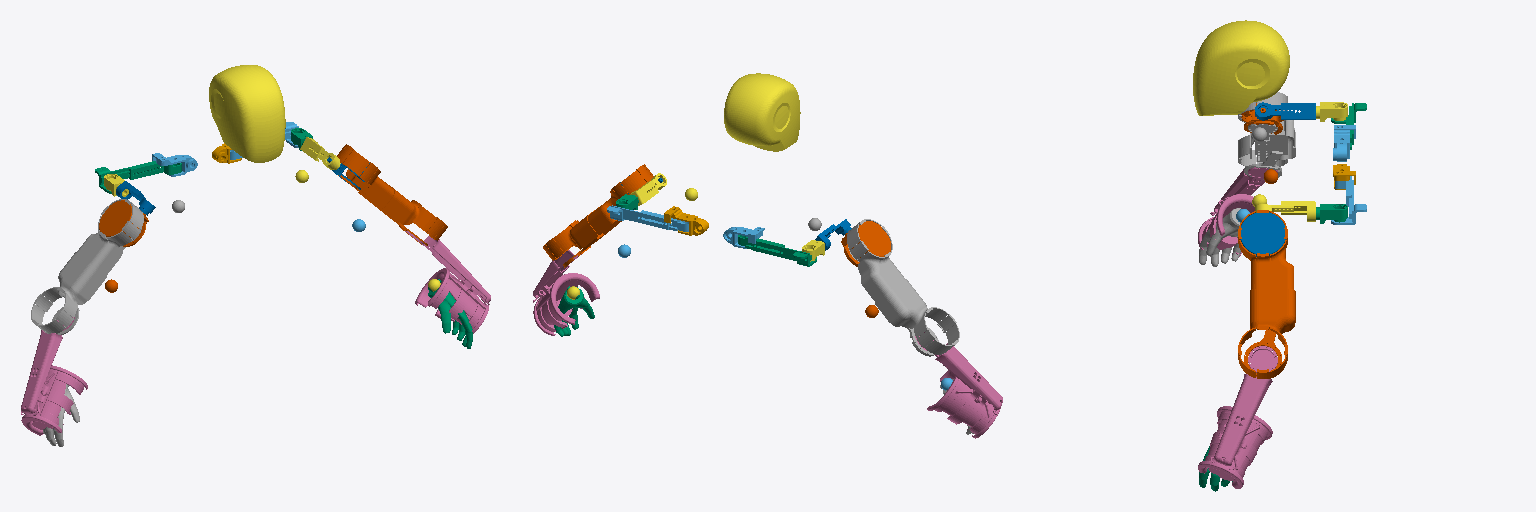
--- Facts derived from the render (not from the file) ---
Views: 3 orthographic renders of the robot side by side, from view 1: azimuth 30°, elevation 25°; view 2: azimuth 150°, elevation 25°; view 3: azimuth 270°, elevation 25°.
Model exohaptic with 36 links and 35 joints (35 revolute), rooted at back_plate, posed all joints at 0.
Links seen in each view (by area): view 1: head, right_link5, right_link6, left_link5, left_link6, right_link4, right_link1, hand_left, left_link3, hand_right, right_link0; view 2: right_link5, head, right_link6, left_link5, left_link6, right_link4, left_link1, right_link1, hand_left, left_link0; view 3: head, left_link6, left_link5, right_link5, right_link6, left_link4, hand_right, right_link3, left_link3, right_link0, left_link1, right_link2 (+1 smaller).
Boxes of the visible links, <box> form: head: <box>209,65,285,162</box>; right_link5: <box>31,199,143,334</box>; right_link6: <box>21,317,87,435</box>; left_link5: <box>337,144,447,245</box>; left_link6: <box>405,231,490,333</box>; right_link4: <box>99,200,148,246</box>; right_link1: <box>95,161,181,193</box>; hand_left: <box>428,279,472,348</box>; left_link3: <box>300,137,340,169</box>; hand_right: <box>43,384,79,446</box>; right_link0: <box>152,153,197,176</box>; right_link5: <box>847,219,959,356</box>; head: <box>724,73,800,151</box>; right_link6: <box>915,332,1002,438</box>; left_link5: <box>543,164,653,267</box>; left_link6: <box>533,250,599,335</box>; right_link4: <box>841,221,890,266</box>; left_link1: <box>607,205,688,231</box>; right_link1: <box>738,235,816,266</box>; hand_left: <box>554,286,594,336</box>; left_link0: <box>664,206,708,235</box>; head: <box>1193,20,1289,115</box>; left_link6: <box>1198,346,1277,488</box>; left_link5: <box>1238,210,1295,378</box>; right_link5: <box>1238,92,1295,179</box>; right_link6: <box>1198,167,1277,256</box>; left_link4: <box>1240,212,1285,256</box>; hand_right: <box>1199,208,1240,266</box>; right_link3: <box>1255,102,1315,120</box>; left_link3: <box>1255,201,1315,221</box>; right_link0: <box>1333,125,1355,161</box>; left_link1: <box>1331,176,1366,224</box>; right_link2: <box>1316,102,1347,121</box>.
Size in the robot's own frame: 1.38 by 0.4018 by 0.8981 metres.
31 mesh visuals loaded from 36 distinct referenced files (31 binary STL); not drawn: 5 (reference not matched to a file when rendering).

URDF robot description (exohaptic):
<robot name="exohaptic">
  <joint name="right_joint0" type="revolute">
    <parent link="back_plate" />
    <child link="right_link0" />
    <origin rpy="0  0  0" xyz="-0.0399   0.21501  0.08476" />
    <axis xyz="0  1  0" />
    <limit effort="0.0" lower="-1.57079632679" upper="0.0" velocity="0.0" />
  </joint>
  <joint name="left_joint0" type="revolute">
    <parent link="back_plate" />
    <child link="left_link0" />
    <origin rpy="0  0  0" xyz="0.0501   0.21501  0.08476" />
    <axis xyz="0  1  0" />
    <limit effort="0.0" lower="-3.14159265359" upper="3.14159265359" velocity="0.0" />
  </joint>
  <joint name="right_joint1" type="revolute">
    <parent link="right_link0" />
    <child link="right_link1" />
    <origin rpy="0  0  0" xyz="-0.04     0.01975 -0.0162" />
    <axis xyz="0  0 -1" />
    <limit effort="0.0" lower="-1.57079632679" upper="0.0" velocity="0.0" />
  </joint>
  <joint name="right_joint2" type="revolute">
    <parent link="right_link1" />
    <child link="right_link2" />
    <origin rpy="0  0  0" xyz="-0.1913 -0.005  -0.0004" />
    <axis xyz="0  0  1" />
    <limit effort="0.0" lower="-3.14159265359" upper="3.14159265359" velocity="0.0" />
  </joint>
  <joint name="right_joint3" type="revolute">
    <parent link="right_link2" />
    <child link="right_link3" />
    <origin rpy="0  0  0" xyz="0      -0.054    0.01575" />
    <axis xyz="0  1  0" />
    <limit effort="0.0" lower="-3.14159265359" upper="3.14159265359" velocity="0.0" />
  </joint>
  <joint name="right_joint4" type="revolute">
    <parent link="right_link3" />
    <child link="right_link4" />
    <origin rpy="0  0  0" xyz="-0.00979 -0.123   -0.00979" />
    <axis xyz="0.7071  0      0.7071" />
    <limit effort="0.0" lower="-3.14159265359" upper="3.14159265359" velocity="0.0" />
  </joint>
  <joint name="right_joint5" type="revolute">
    <parent link="right_link4" />
    <child link="right_link5" />
    <origin rpy="0  0  0" xyz="-0.03111  0      -0.04808" />
    <axis xyz="0.7071  0     -0.7071" />
    <limit effort="0.0" lower="-3.14159265359" upper="3.14159265359" velocity="0.0" />
  </joint>
  <joint name="right_joint6" type="revolute">
    <parent link="right_link5" />
    <child link="right_link6" />
    <origin rpy="0  0  0" xyz="-0.20046  0      -0.20117" />
    <axis xyz="0.7071  0     -0.7071" />
    <limit effort="0.0" lower="-3.14159265359" upper="3.14159265359" velocity="0.0" />
  </joint>
  <joint name="left_joint1" type="revolute">
    <parent link="left_link0" />
    <child link="left_link1" />
    <origin rpy="0  0  0" xyz="0.04     0.01975 -0.0162" />
    <axis xyz="0  0  1" />
    <limit effort="0.0" lower="-3.14159265359" upper="3.14159265359" velocity="0.0" />
  </joint>
  <joint name="left_joint2" type="revolute">
    <parent link="left_link1" />
    <child link="left_link2" />
    <origin rpy="0  0  0" xyz="0.1913 -0.005  -0.0004" />
    <axis xyz="0  0 -1" />
    <limit effort="0.0" lower="-3.14159265359" upper="3.14159265359" velocity="0.0" />
  </joint>
  <joint name="left_joint3" type="revolute">
    <parent link="left_link2" />
    <child link="left_link3" />
    <origin rpy="0  0  0" xyz="0      -0.054    0.01575" />
    <axis xyz="0 -1  0" />
    <limit effort="0.0" lower="-3.14159265359" upper="3.14159265359" velocity="0.0" />
  </joint>
  <joint name="left_joint4" type="revolute">
    <parent link="left_link3" />
    <child link="left_link4" />
    <origin rpy="0  0  0" xyz="0.00979 -0.123   -0.00979" />
    <axis xyz="0.7071  0     -0.7071" />
    <limit effort="0.0" lower="-3.14159265359" upper="3.14159265359" velocity="0.0" />
  </joint>
  <joint name="left_joint5" type="revolute">
    <parent link="left_link4" />
    <child link="left_link5" />
    <origin rpy="0  0  0" xyz="0.03394  0      -0.04525" />
    <axis xyz="-0.7071  0     -0.7071" />
    <limit effort="0.0" lower="-3.14159265359" upper="3.14159265359" velocity="0.0" />
  </joint>
  <joint name="left_joint6" type="revolute">
    <parent link="left_link5" />
    <child link="left_link6" />
    <origin rpy="0  0  0" xyz="0.19763  0      -0.204" />
    <axis xyz="0.7071  0      0.7071" />
    <limit effort="0.0" lower="-3.14159265359" upper="3.14159265359" velocity="0.0" />
  </joint>
  <joint name="shoulder_right_axis0" type="revolute">
    <parent link="back_plate" />
    <child link="shoulder_right_link1" />
    <origin rpy="0  0  0" xyz="-0.17967  0.04491  0.06978" />
    <axis xyz="0  0  1" />
    <limit effort="0.0" lower="-3.14159265359" upper="3.14159265359" velocity="0.0" />
  </joint>
  <joint name="shoulder_right_axis2" type="revolute">
    <parent link="shoulder_right_link2" />
    <child link="upper_arm_right" />
    <origin rpy="0  0  0" xyz="0  0  0" />
    <axis xyz="0.81915  0      -0.57357" />
    <limit effort="0.0" lower="-3.14159265359" upper="3.14159265359" velocity="0.0" />
  </joint>
  <joint name="shoulder_right_axis1" type="revolute">
    <parent link="shoulder_right_link1" />
    <child link="shoulder_right_link2" />
    <origin rpy="0  0  0" xyz="0  0  0" />
    <axis xyz="0  1  0" />
    <limit effort="0.0" lower="-3.14159265359" upper="3.14159265359" velocity="0.0" />
  </joint>
  <joint name="elbow_right_axis0" type="revolute">
    <parent link="upper_arm_right" />
    <child link="elbow_right_link1" />
    <origin rpy="0  0  0" xyz="-0.18361  0.026   -0.19249" />
    <axis xyz="0.57357  0       0.81915" />
    <limit effort="0.0" lower="-3.14159265359" upper="3.14159265359" velocity="0.0" />
  </joint>
  <joint name="elbow_right_axis2" type="revolute">
    <parent link="elbow_right_link2" />
    <child link="lower_arm_right" />
    <origin rpy="0  0  0" xyz="0  0  0" />
    <axis xyz="0.81915  0      -0.57357" />
    <limit effort="0.0" lower="-3.14159265359" upper="3.14159265359" velocity="0.0" />
  </joint>
  <joint name="elbow_right_axis1" type="revolute">
    <parent link="elbow_right_link1" />
    <child link="elbow_right_link2" />
    <origin rpy="0  0  0" xyz="0  0  0" />
    <axis xyz="0  1  0" />
    <limit effort="0.0" lower="-3.14159265359" upper="3.14159265359" velocity="0.0" />
  </joint>
  <joint name="wrist_right_axis0" type="revolute">
    <parent link="lower_arm_right" />
    <child link="wrist_right_link1" />
    <origin rpy="0  0  0" xyz="-0.18696 -0.06327 -0.18768" />
    <axis xyz="0.56486  0.17364  0.8067" />
    <limit effort="0.0" lower="-3.14159265359" upper="3.14159265359" velocity="0.0" />
  </joint>
  <joint name="wrist_right_axis2" type="revolute">
    <parent link="wrist_right_link2" />
    <child link="hand_right" />
    <origin rpy="0  0  0" xyz="0  0  0" />
    <axis xyz="0.81915  0      -0.57357" />
    <limit effort="0.0" lower="-3.14159265359" upper="3.14159265359" velocity="0.0" />
  </joint>
  <joint name="wrist_right_axis1" type="revolute">
    <parent link="wrist_right_link1" />
    <child link="wrist_right_link2" />
    <origin rpy="0  0  0" xyz="0  0  0" />
    <axis xyz="-0.0996   0.9848  -0.14224" />
    <limit effort="0.0" lower="-3.14159265359" upper="3.14159265359" velocity="0.0" />
  </joint>
  <joint name="shoulder_left_axis0" type="revolute">
    <parent link="back_plate" />
    <child link="shoulder_left_link1" />
    <origin rpy="0  0  0" xyz="0.18587  0.04491  0.06978" />
    <axis xyz="0  0 -1" />
    <limit effort="0.0" lower="-3.14159265359" upper="3.14159265359" velocity="0.0" />
  </joint>
  <joint name="shoulder_left_axis2" type="revolute">
    <parent link="shoulder_left_link2" />
    <child link="upper_arm_left" />
    <origin rpy="0  0  0" xyz="0  0  0" />
    <axis xyz="0.81915  0       0.57357" />
    <limit effort="0.0" lower="-3.14159265359" upper="3.14159265359" velocity="0.0" />
  </joint>
  <joint name="shoulder_left_axis1" type="revolute">
    <parent link="shoulder_left_link1" />
    <child link="shoulder_left_link2" />
    <origin rpy="0  0  0" xyz="0  0  0" />
    <axis xyz="0 -1  0" />
    <limit effort="0.0" lower="-3.14159265359" upper="3.14159265359" velocity="0.0" />
  </joint>
  <joint name="elbow_left_axis0" type="revolute">
    <parent link="upper_arm_left" />
    <child link="elbow_left_link1" />
    <origin rpy="0  0  0" xyz="0.18361  0.026   -0.19249" />
    <axis xyz="0.57357  0      -0.81915" />
    <limit effort="0.0" lower="-3.14159265359" upper="3.14159265359" velocity="0.0" />
  </joint>
  <joint name="elbow_left_axis2" type="revolute">
    <parent link="elbow_left_link2" />
    <child link="lower_arm_left" />
    <origin rpy="0  0  0" xyz="0  0  0" />
    <axis xyz="0.81915  0       0.57357" />
    <limit effort="0.0" lower="-3.14159265359" upper="3.14159265359" velocity="0.0" />
  </joint>
  <joint name="elbow_left_axis1" type="revolute">
    <parent link="elbow_left_link1" />
    <child link="elbow_left_link2" />
    <origin rpy="0  0  0" xyz="0  0  0" />
    <axis xyz="0 -1  0" />
    <limit effort="0.0" lower="-3.14159265359" upper="3.14159265359" velocity="0.0" />
  </joint>
  <joint name="wrist_left_axis0" type="revolute">
    <parent link="lower_arm_left" />
    <child link="wrist_left_link1" />
    <origin rpy="0  0  0" xyz="0.18696 -0.06327 -0.18768" />
    <axis xyz="0.56486 -0.17364 -0.8067" />
    <limit effort="0.0" lower="-3.14159265359" upper="3.14159265359" velocity="0.0" />
  </joint>
  <joint name="wrist_left_axis2" type="revolute">
    <parent link="wrist_left_link2" />
    <child link="hand_left" />
    <origin rpy="0  0  0" xyz="0  0  0" />
    <axis xyz="0.81915  0       0.57357" />
    <limit effort="0.0" lower="-3.14159265359" upper="3.14159265359" velocity="0.0" />
  </joint>
  <joint name="wrist_left_axis1" type="revolute">
    <parent link="wrist_left_link1" />
    <child link="wrist_left_link2" />
    <origin rpy="0  0  0" xyz="0  0  0" />
    <axis xyz="-0.0996  -0.9848   0.14224" />
    <limit effort="0.0" lower="-3.14159265359" upper="3.14159265359" velocity="0.0" />
  </joint>
  <joint name="neck_axis0" type="revolute">
    <parent link="back_plate" />
    <child link="neck_link1" />
    <origin rpy="0  0  0" xyz="0.00032  0.00991  0.27978" />
    <axis xyz="1  0  0" />
    <limit effort="0.0" lower="-3.14159265359" upper="3.14159265359" velocity="0.0" />
  </joint>
  <joint name="neck_axis2" type="revolute">
    <parent link="neck_link2" />
    <child link="head" />
    <origin rpy="0  0  0" xyz="0  0  0" />
    <axis xyz="0  0 -1" />
    <limit effort="0.0" lower="-3.14159265359" upper="3.14159265359" velocity="0.0" />
  </joint>
  <joint name="neck_axis1" type="revolute">
    <parent link="neck_link1" />
    <child link="neck_link2" />
    <origin rpy="0  0  0" xyz="0  0  0" />
    <axis xyz="0  1  0" />
    <limit effort="0.0" lower="-3.14159265359" upper="3.14159265359" velocity="0.0" />
  </joint>
  <link name="back_plate">
    <inertial>
      <mass value="8.139385049727629" />
      <origin rpy="0  0  0" xyz="0.00384  0.16901 -0.11191" />
      <inertia ixx="0.7682234474795213" ixy="-0.0069899315534839536" ixz="0.004840916713086481" iyy="0.4916453272832193" iyz="0.21773604360990972" izz="0.3440612626087113" />
    </inertial>
    <collision name="back_plate_collision">
      <origin rpy="0  0  0" xyz="0.00384  0.16901 -0.11191" />
      <geometry>
        <mesh filename="package://robots/exohaptic/meshes/collisions/back_plate.stl" scale="0.001 0.001 0.001" />
      </geometry>
    </collision>
    <visual name="back_plate_visual">
      <origin rpy="0  0  0" xyz="0.00384  0.16901 -0.11191" />
      <geometry>
        <mesh filename="package://robots/exohaptic/meshes/visuals/back_plate.stl" scale="0.001 0.001 0.001" />
      </geometry>
    </visual>
  </link>
  <link name="right_link0">
    <inertial>
      <mass value="0.44679478425959274" />
      <origin rpy="0  0  0" xyz="-0.03371  0.01958  0.00683" />
      <inertia ixx="0.02850566718684878" ixy="0.007768523969325554" ixz="0.0031459771568931793" iyy="0.006741743764682452" iyz="-0.00961515000858008" izz="0.027528731763173563" />
    </inertial>
    <collision name="right_link0_collision">
      <origin rpy="0  0  0" xyz="-0.03371  0.01958  0.00683" />
      <geometry>
        <mesh filename="package://robots/exohaptic/meshes/collisions/right_link0.stl" scale="0.001 0.001 0.001" />
      </geometry>
    </collision>
    <visual name="right_link0_visual">
      <origin rpy="0  0  0" xyz="-0.03371  0.01958  0.00683" />
      <geometry>
        <mesh filename="package://robots/exohaptic/meshes/visuals/right_link0.stl" scale="0.001 0.001 0.001" />
      </geometry>
    </visual>
  </link>
  <link name="right_link1">
    <inertial>
      <mass value="0.7831254380658086" />
      <origin rpy="0  0  0" xyz="-0.10281  0.01544  0.01424" />
      <inertia ixx="0.05462723019125244" ixy="0.036143456759153154" ixz="0.011773188017332896" iyy="0.035350979737987835" iyz="-0.016262618054640174" izz="0.07907186342199232" />
    </inertial>
    <collision name="right_link1_collision">
      <origin rpy="0  0  0" xyz="-0.10281  0.01544  0.01424" />
      <geometry>
        <mesh filename="package://robots/exohaptic/meshes/collisions/right_link1.stl" scale="0.001 0.001 0.001" />
      </geometry>
    </collision>
    <visual name="right_link1_visual">
      <origin rpy="0  0  0" xyz="-0.10281  0.01544  0.01424" />
      <geometry>
        <mesh filename="package://robots/exohaptic/meshes/visuals/right_link1.stl" scale="0.001 0.001 0.001" />
      </geometry>
    </visual>
  </link>
  <link name="right_link2">
    <inertial>
      <mass value="0.49727563373908934" />
      <origin rpy="0  0  0" xyz="0      -0.02227  0.01743" />
      <inertia ixx="0.025322043900049097" ixy="0.027981741443474394" ixz="0.011542968518925521" iyy="0.040305766981368514" iyz="-0.008833668598917741" izz="0.058271852822971926" />
    </inertial>
    <collision name="right_link2_collision">
      <origin rpy="0  0  0" xyz="0      -0.02227  0.01743" />
      <geometry>
        <mesh filename="package://robots/exohaptic/meshes/collisions/right_link2.stl" scale="0.001 0.001 0.001" />
      </geometry>
    </collision>
    <visual name="right_link2_visual">
      <origin rpy="0  0  0" xyz="0      -0.02227  0.01743" />
      <geometry>
        <mesh filename="package://robots/exohaptic/meshes/visuals/right_link2.stl" scale="0.001 0.001 0.001" />
      </geometry>
    </visual>
  </link>
  <link name="right_link3">
    <inertial>
      <mass value="0.5220086555744743" />
      <origin rpy="0  0  0" xyz="0.01418 -0.13085 -0.01118" />
      <inertia ixx="0.011225574349458483" ixy="0.014702565450204173" ixz="0.012242705191522832" iyy="0.04084955030043474" iyz="-0.004944966277485869" izz="0.04378453478749949" />
    </inertial>
    <collision name="right_link3_collision">
      <origin rpy="0  0  0" xyz="0.01418 -0.13085 -0.01118" />
      <geometry>
        <mesh filename="package://robots/exohaptic/meshes/collisions/right_link3.stl" scale="0.001 0.001 0.001" />
      </geometry>
    </collision>
    <visual name="right_link3_visual">
      <origin rpy="0  0  0" xyz="0.01418 -0.13085 -0.01118" />
      <geometry>
        <mesh filename="package://robots/exohaptic/meshes/visuals/right_link3.stl" scale="0.001 0.001 0.001" />
      </geometry>
    </visual>
  </link>
  <link name="right_link4">
    <inertial>
      <mass value="0.7386523301391769" />
      <origin rpy="0  0  0" xyz="-0.05065  0.00191 -0.01503" />
      <inertia ixx="0.005909164459017086" ixy="0.013354064123330579" ixz="0.014280546357188851" iyy="0.08518618689003109" iyz="-0.0023609091471348265" izz="0.0849433545712226" />
    </inertial>
    <collision name="right_link4_collision">
      <origin rpy="0  0  0" xyz="-0.05065  0.00191 -0.01503" />
      <geometry>
        <mesh filename="package://robots/exohaptic/meshes/collisions/right_link4.stl" scale="0.001 0.001 0.001" />
      </geometry>
    </collision>
    <visual name="right_link4_visual">
      <origin rpy="0  0  0" xyz="-0.05065  0.00191 -0.01503" />
      <geometry>
        <mesh filename="package://robots/exohaptic/meshes/visuals/right_link4.stl" scale="0.001 0.001 0.001" />
      </geometry>
    </visual>
  </link>
  <link name="right_link6">
    <inertial>
      <mass value="4.519298291416539" />
      <origin rpy="0  0  0" xyz="-0.04567 -0.04078 -0.1022" />
      <inertia ixx="0.5531165685920428" ixy="-0.04264190765597109" ixz="-0.9537613205494702" iyy="2.240986901983799" iyz="-0.026645960737998322" izz="1.700117636667368" />
    </inertial>
    <collision name="right_link6_collision">
      <origin rpy="0  0  0" xyz="-0.04567 -0.04078 -0.1022" />
      <geometry>
        <mesh filename="package://robots/exohaptic/meshes/collisions/right_link6.stl" scale="0.001 0.001 0.001" />
      </geometry>
    </collision>
    <visual name="right_link6_visual">
      <origin rpy="0  0  0" xyz="-0.04567 -0.04078 -0.1022" />
      <geometry>
        <mesh filename="package://robots/exohaptic/meshes/visuals/right_link6.stl" scale="0.001 0.001 0.001" />
      </geometry>
    </visual>
  </link>
  <link name="right_link5">
    <inertial>
      <mass value="2.976447525420231" />
      <origin rpy="0  0  0" xyz="-0.13318 -0.01035 -0.05137" />
      <inertia ixx="0.03780203846189356" ixy="0.0846281353344662" ixz="-0.07885965046797937" iyy="0.5816099688672075" iyz="0.010502698324346617" izz="0.5762958110272286" />
    </inertial>
    <collision name="right_link5_collision">
      <origin rpy="0  0  0" xyz="-0.13318 -0.01035 -0.05137" />
      <geometry>
        <mesh filename="package://robots/exohaptic/meshes/collisions/right_link5.stl" scale="0.001 0.001 0.001" />
      </geometry>
    </collision>
    <visual name="right_link5_visual">
      <origin rpy="0  0  0" xyz="-0.13318 -0.01035 -0.05137" />
      <geometry>
        <mesh filename="package://robots/exohaptic/meshes/visuals/right_link5.stl" scale="0.001 0.001 0.001" />
      </geometry>
    </visual>
  </link>
  <link name="left_link0">
    <inertial>
      <mass value="0.4468024211817555" />
      <origin rpy="0  0  0" xyz="0.03371  0.01958  0.00683" />
      <inertia ixx="0.028506111575001842" ixy="-0.008837787410228053" ixz="-0.0035634708141912413" iyy="0.007459320336472326" iyz="-0.009615293668332726" izz="0.028246646198803637" />
    </inertial>
    <collision name="left_link0_collision">
      <origin rpy="0  0  0" xyz="0.03371  0.01958  0.00683" />
      <geometry>
        <mesh filename="package://robots/exohaptic/meshes/collisions/left_link0.stl" scale="0.001 0.001 0.001" />
      </geometry>
    </collision>
    <visual name="left_link0_visual">
      <origin rpy="0  0  0" xyz="0.03371  0.01958  0.00683" />
      <geometry>
        <mesh filename="package://robots/exohaptic/meshes/visuals/left_link0.stl" scale="0.001 0.001 0.001" />
      </geometry>
    </visual>
  </link>
  <link name="left_link1">
    <inertial>
      <mass value="0.7831254380658126" />
      <origin rpy="0  0  0" xyz="0.10281  0.01544  0.01424" />
      <inertia ixx="0.05462723019125278" ixy="-0.03814222150495104" ixz="-0.012434693523149807" iyy="0.038351634898749556" iyz="-0.016262618054640247" izz="0.0820725185827542" />
    </inertial>
    <collision name="left_link1_collision">
      <origin rpy="0  0  0" xyz="0.10281  0.01544  0.01424" />
      <geometry>
        <mesh filename="package://robots/exohaptic/meshes/collisions/left_link1.stl" scale="0.001 0.001 0.001" />
      </geometry>
    </collision>
    <visual name="left_link1_visual">
      <origin rpy="0  0  0" xyz="0.10281  0.01544  0.01424" />
      <geometry>
        <mesh filename="package://robots/exohaptic/meshes/visuals/left_link1.stl" scale="0.001 0.001 0.001" />
      </geometry>
    </visual>
  </link>
  <link name="left_link2">
    <inertial>
      <mass value="0.4972941507517554" />
      <origin rpy="0  0  0" xyz="0      -0.02227  0.01742" />
      <inertia ixx="0.02532296866687878" ixy="-0.02903529527316519" ixz="-0.011977552362605061" iyy="0.04311043644251099" iyz="-0.008833975010869185" izz="0.06107720679218708" />
    </inertial>
    <collision name="left_link2_collision">
      <origin rpy="0  0  0" xyz="0      -0.02227  0.01742" />
      <geometry>
        <mesh filename="package://robots/exohaptic/meshes/collisions/left_link2.stl" scale="0.001 0.001 0.001" />
      </geometry>
    </collision>
    <visual name="left_link2_visual">
      <origin rpy="0  0  0" xyz="0      -0.02227  0.01742" />
      <geometry>
        <mesh filename="package://robots/exohaptic/meshes/visuals/left_link2.stl" scale="0.001 0.001 0.001" />
      </geometry>
    </visual>
  </link>
  <link name="left_link3">
    <inertial>
      <mass value="0.5220105836901086" />
      <origin rpy="0  0  0" xyz="-0.02322 -0.12916 -0.01469" />
      <inertia ixx="0.011225599659928167" ixy="-0.015270359917719151" ixz="-0.012713949173721944" iyy="0.043725734096818215" iyz="-0.004944978657824181" izz="0.04666071353605057" />
    </inertial>
    <collision name="left_link3_collision">
      <origin rpy="0  0  0" xyz="-0.02322 -0.12916 -0.01469" />
      <geometry>
        <mesh filename="package://robots/exohaptic/meshes/collisions/left_link3.stl" scale="0.001 0.001 0.001" />
      </geometry>
    </collision>
    <visual name="left_link3_visual">
      <origin rpy="0  0  0" xyz="-0.02322 -0.12916 -0.01469" />
      <geometry>
        <mesh filename="package://robots/exohaptic/meshes/visuals/left_link3.stl" scale="0.001 0.001 0.001" />
      </geometry>
    </visual>
  </link>
  <link name="left_link4">
    <inertial>
      <mass value="0.739026205771855" />
      <origin rpy="0  0  0" xyz="0.05066  0.00191 -0.01503" />
      <inertia ixx="0.005911116935457145" ixy="-0.013771280077442672" ixz="-0.014732101505236978" iyy="0.0903107684515888" iyz="-0.0023615073850101072" izz="0.09006750557342583" />
    </inertial>
    <collision name="left_link4_collision">
      <origin rpy="0  0  0" xyz="0.05066  0.00191 -0.01503" />
      <geometry>
        <mesh filename="package://robots/exohaptic/meshes/collisions/left_link4.stl" scale="0.001 0.001 0.001" />
      </geometry>
    </collision>
    <visual name="left_link4_visual">
      <origin rpy="0  0  0" xyz="0.05066  0.00191 -0.01503" />
      <geometry>
        <mesh filename="package://robots/exohaptic/meshes/visuals/left_link4.stl" scale="0.001 0.001 0.001" />
      </geometry>
    </visual>
  </link>
  <link name="left_link5">
    <inertial>
      <mass value="1.814866465315438" />
      <origin rpy="0  0  0" xyz="0.13035 -0.01035 -0.0542" />
      <inertia ixx="0.02689944305394046" ixy="-0.04998409559980578" ixz="0.05414916489234187" iyy="0.39004676058048976" iyz="0.006088530254351836" izz="0.3819898461998349" />
    </inertial>
    <collision name="left_link5_collision">
      <origin rpy="0  0  0" xyz="0.13035 -0.01035 -0.0542" />
      <geometry>
        <mesh filename="package://robots/exohaptic/meshes/collisions/left_link5.stl" scale="0.001 0.001 0.001" />
      </geometry>
    </collision>
    <visual name="left_link5_visual">
      <origin rpy="0  0  0" xyz="0.13035 -0.01035 -0.0542" />
      <geometry>
        <mesh filename="package://robots/exohaptic/meshes/visuals/left_link5.stl" scale="0.001 0.001 0.001" />
      </geometry>
    </visual>
  </link>
  <link name="left_link6">
    <inertial>
      <mass value="4.519290523916513" />
      <origin rpy="0  0  0" xyz="0.0371  -0.03694 -0.10683" />
      <inertia ixx="0.5574374574493587" ixy="0.043216403691500434" ixz="0.9713028764197281" iyy="2.294415625560457" iyz="-0.02674870274287185" izz="1.7492254630929642" />
    </inertial>
    <collision name="left_link6_collision">
      <origin rpy="0  0  0" xyz="0.0371  -0.03694 -0.10683" />
      <geometry>
        <mesh filename="package://robots/exohaptic/meshes/collisions/left_link6.stl" scale="0.001 0.001 0.001" />
      </geometry>
    </collision>
    <visual name="left_link6_visual">
      <origin rpy="0  0  0" xyz="0.0371  -0.03694 -0.10683" />
      <geometry>
        <mesh filename="package://robots/exohaptic/meshes/visuals/left_link6.stl" scale="0.001 0.001 0.001" />
      </geometry>
    </visual>
  </link>
  <link name="neck_link1">
    <inertial>
      <mass value="0.06979038134801685" />
      <origin rpy="0  0  0" xyz="0  0  0" />
      <inertia ixx="0.005481519014987607" ixy="-2.2236247149655613e-07" ixz="-6.272710904723963e-06" iyy="0.00547466116002969" iyz="-0.0001936591189363321" izz="1.8519537482874156e-05" />
    </inertial>
    <collision name="neck_link1_collision">
      <origin rpy="0  0  0" xyz="0  0  0" />
      <geometry>
        <mesh filename="package://robots/exohaptic/meshes/collisions/neck_link1.stl" scale="0.001 0.001 0.001" />
      </geometry>
    </collision>
    <visual name="neck_link1_visual">
      <origin rpy="0  0  0" xyz="0  0  0" />
      <geometry>
        <mesh filename="package://robots/exohaptic/meshes/visuals/neck_link1.stl" scale="0.001 0.001 0.001" />
      </geometry>
    </visual>
  </link>
  <link name="neck_link2">
    <inertial>
      <mass value="0.04678255760927329" />
      <origin rpy="0  0  0" xyz="0  0  0" />
      <inertia ixx="0.0036718783017393366" ixy="-1.4905614307421943e-07" ixz="-4.204783718098053e-06" iyy="0.0036672812787744632" iyz="-0.00012981543660553322" izz="9.868112492285682e-06" />
    </inertial>
    <collision name="neck_link2_collision">
      <origin rpy="0  0  0" xyz="0  0  0" />
      <geometry>
        <mesh filename="package://robots/exohaptic/meshes/collisions/neck_link2.stl" scale="0.001 0.001 0.001" />
      </geometry>
    </collision>
    <visual name="neck_link2_visual">
      <origin rpy="0  0  0" xyz="0  0  0" />
      <geometry>
        <mesh filename="package://robots/exohaptic/meshes/visuals/neck_link2.stl" scale="0.001 0.001 0.001" />
      </geometry>
    </visual>
  </link>
  <link name="wrist_right_link1">
    <inertial>
      <mass value="0.06979043874174574" />
      <origin rpy="0  0  0" xyz="0  0  0" />
      <inertia ixx="0.006739669974044372" ixy="0.0002933411247103117" ixz="-0.011919983442739151" iyy="0.027866925885891132" iyz="0.0001654709698240953" izz="0.021147047401835293" />
    </inertial>
    <collision name="wrist_right_link1_collision">
      <origin rpy="0  0  0" xyz="0  0  0" />
      <geometry>
        <mesh filename="package://robots/exohaptic/meshes/collisions/wrist_right_link1.stl" scale="0.001 0.001 0.001" />
      </geometry>
    </collision>
    <visual name="wrist_right_link1_visual">
      <origin rpy="0  0  0" xyz="0  0  0" />
      <geometry>
        <mesh filename="package://robots/exohaptic/meshes/visuals/wrist_right_link1.stl" scale="0.001 0.001 0.001" />
      </geometry>
    </visual>
  </link>
  <link name="wrist_right_link2">
    <inertial>
      <mass value="0.04678258965782097" />
      <origin rpy="0  0  0" xyz="0  0  0" />
      <inertia ixx="0.004515253452595208" ixy="0.0001966352022809539" ixz="-0.007990316397291627" iyy="0.018677476047998572" iyz="0.00011092006885428488" izz="0.014172943334538864" />
    </inertial>
    <collision name="wrist_right_link2_collision">
      <origin rpy="0  0  0" xyz="0  0  0" />
      <geometry>
        <mesh filename="package://robots/exohaptic/meshes/collisions/wrist_right_link2.stl" scale="0.001 0.001 0.001" />
      </geometry>
    </collision>
    <visual name="wrist_right_link2_visual">
      <origin rpy="0  0  0" xyz="0  0  0" />
      <geometry>
        <mesh filename="package://robots/exohaptic/meshes/visuals/wrist_right_link2.stl" scale="0.001 0.001 0.001" />
      </geometry>
    </visual>
  </link>
  <link name="shoulder_left_link1">
    <inertial>
      <mass value="0.06979038134801809" />
      <origin rpy="0  0  0" xyz="0  0  0" />
      <inertia ixx="0.0004922938208751043" ixy="-0.0005827031707211392" ixz="-0.0009052396385368992" iyy="0.0027628219240047915" iyz="-0.0002187523166124097" izz="0.0025637973139706225" />
    </inertial>
    <collision name="shoulder_left_link1_collision">
      <origin rpy="0  0  0" xyz="0  0  0" />
      <geometry>
        <mesh filename="package://robots/exohaptic/meshes/collisions/shoulder_left_link1.stl" scale="0.001 0.001 0.001" />
      </geometry>
    </collision>
    <visual name="shoulder_left_link1_visual">
      <origin rpy="0  0  0" xyz="0  0  0" />
      <geometry>
        <mesh filename="package://robots/exohaptic/meshes/visuals/shoulder_left_link1.stl" scale="0.001 0.001 0.001" />
      </geometry>
    </visual>
  </link>
  <link name="shoulder_left_link2">
    <inertial>
      <mass value="0.0467825583571303" />
      <origin rpy="0  0  0" xyz="0  0  0" />
      <inertia ixx="0.00032745303819112833" ixy="-0.000390603182882886" ixz="-0.0006068089240816529" iyy="0.0018494552315375648" iyz="-0.00014663615271917282" izz="0.0017160431444621501" />
    </inertial>
    <collision name="shoulder_left_link2_collision">
      <origin rpy="0  0  0" xyz="0  0  0" />
      <geometry>
        <mesh filename="package://robots/exohaptic/meshes/collisions/shoulder_left_link2.stl" scale="0.001 0.001 0.001" />
      </geometry>
    </collision>
    <visual name="shoulder_left_link2_visual">
      <origin rpy="0  0  0" xyz="0  0  0" />
      <geometry>
        <mesh filename="package://robots/exohaptic/meshes/visuals/shoulder_left_link2.stl" scale="0.001 0.001 0.001" />
      </geometry>
    </visual>
  </link>
  <link name="elbow_right_link1">
    <inertial>
      <mass value="0.06979038134801685" />
      <origin rpy="0  0  0" xyz="0  0  0" />
      <inertia ixx="0.0014135858793880062" ixy="0.0017980924591457104" ixz="-0.0031113305559733496" iyy="0.01027376862343843" iyz="0.0006073551513680421" izz="0.009573832395338811" />
    </inertial>
    <collision name="elbow_right_link1_collision">
      <origin rpy="0  0  0" xyz="0  0  0" />
      <geometry>
        <mesh filename="package://robots/exohaptic/meshes/collisions/elbow_right_link1.stl" scale="0.001 0.001 0.001" />
      </geometry>
    </collision>
    <visual name="elbow_right_link1_visual">
      <origin rpy="0  0  0" xyz="0  0  0" />
      <geometry>
        <mesh filename="package://robots/exohaptic/meshes/visuals/elbow_right_link1.stl" scale="0.001 0.001 0.001" />
      </geometry>
    </visual>
  </link>
  <link name="elbow_right_link2">
    <inertial>
      <mass value="0.0467825583571303" />
      <origin rpy="0  0  0" xyz="0  0  0" />
      <inertia ixx="0.0009450223745215333" ixy="0.0012053145974662445" ixz="-0.002085616964568737" iyy="0.006884265122192254" iyz="0.00040712813518945347" izz="0.006415077150943697" />
    </inertial>
    <collision name="elbow_right_link2_collision">
      <origin rpy="0  0  0" xyz="0  0  0" />
      <geometry>
        <mesh filename="package://robots/exohaptic/meshes/collisions/elbow_right_link2.stl" scale="0.001 0.001 0.001" />
      </geometry>
    </collision>
    <visual name="elbow_right_link2_visual">
      <origin rpy="0  0  0" xyz="0  0  0" />
      <geometry>
        <mesh filename="package://robots/exohaptic/meshes/visuals/elbow_right_link2.stl" scale="0.001 0.001 0.001" />
      </geometry>
    </visual>
  </link>
  <link name="shoulder_right_link1">
    <inertial>
      <mass value="0.06979038134801559" />
      <origin rpy="0  0  0" xyz="0  0  0" />
      <inertia ixx="0.0004922938208750811" ixy="0.0005632649738557028" ixz="0.0008750420573524725" iyy="0.0026046271829547013" iyz="-0.00021875231661239844" izz="0.0024056025729205397" />
    </inertial>
    <collision name="shoulder_right_link1_collision">
      <origin rpy="0  0  0" xyz="0  0  0" />
      <geometry>
        <mesh filename="package://robots/exohaptic/meshes/collisions/shoulder_right_link1.stl" scale="0.001 0.001 0.001" />
      </geometry>
    </collision>
    <visual name="shoulder_right_link1_visual">
      <origin rpy="0  0  0" xyz="0  0  0" />
      <geometry>
        <mesh filename="package://robots/exohaptic/meshes/visuals/shoulder_right_link1.stl" scale="0.001 0.001 0.001" />
      </geometry>
    </visual>
  </link>
  <link name="shoulder_right_link2">
    <inertial>
      <mass value="0.04678255835713031" />
      <origin rpy="0  0  0" xyz="0  0  0" />
      <inertia ixx="0.0003274530381911284" ixy="0.00037757318416889706" ixz="0.000586566591589469" iyy="0.0017434126141737554" iyz="-0.00014663615271917282" izz="0.001610000527098341" />
    </inertial>
    <collision name="shoulder_right_link2_collision">
      <origin rpy="0  0  0" xyz="0  0  0" />
      <geometry>
        <mesh filename="package://robots/exohaptic/meshes/collisions/shoulder_right_link2.stl" scale="0.001 0.001 0.001" />
      </geometry>
    </collision>
    <visual name="shoulder_right_link2_visual">
      <origin rpy="0  0  0" xyz="0  0  0" />
      <geometry>
        <mesh filename="package://robots/exohaptic/meshes/visuals/shoulder_right_link2.stl" scale="0.001 0.001 0.001" />
      </geometry>
    </visual>
  </link>
  <link name="elbow_left_link1">
    <inertial>
      <mass value="0.06979038134801685" />
      <origin rpy="0  0  0" xyz="0  0  0" />
      <inertia ixx="0.0014135858793880066" ixy="-0.0018287821157394338" ixz="0.0031644344249244162" iyy="0.01059088303613886" iyz="0.0006073551513680426" izz="0.009890946808039243" />
    </inertial>
    <collision name="elbow_left_link1_collision">
      <origin rpy="0  0  0" xyz="0  0  0" />
      <geometry>
        <mesh filename="package://robots/exohaptic/meshes/collisions/elbow_left_link1.stl" scale="0.001 0.001 0.001" />
      </geometry>
    </collision>
    <visual name="elbow_left_link1_visual">
      <origin rpy="0  0  0" xyz="0  0  0" />
      <geometry>
        <mesh filename="package://robots/exohaptic/meshes/visuals/elbow_left_link1.stl" scale="0.001 0.001 0.001" />
      </geometry>
    </visual>
  </link>
  <link name="elbow_left_link2">
    <inertial>
      <mass value="0.04678255835713027" />
      <origin rpy="0  0  0" xyz="0  0  0" />
      <inertia ixx="0.0009450223745215336" ixy="-0.0012258867826703415" ixz="0.0021212140597587463" iyy="0.007096836299358708" iyz="0.00040712813518945374" izz="0.006627648328110149" />
    </inertial>
    <collision name="elbow_left_link2_collision">
      <origin rpy="0  0  0" xyz="0  0  0" />
      <geometry>
        <mesh filename="package://robots/exohaptic/meshes/collisions/elbow_left_link2.stl" scale="0.001 0.001 0.001" />
      </geometry>
    </collision>
    <visual name="elbow_left_link2_visual">
      <origin rpy="0  0  0" xyz="0  0  0" />
      <geometry>
        <mesh filename="package://robots/exohaptic/meshes/visuals/elbow_left_link2.stl" scale="0.001 0.001 0.001" />
      </geometry>
    </visual>
  </link>
  <link name="wrist_left_link1">
    <inertial>
      <mass value="0.06979043874174999" />
      <origin rpy="0  0  0" xyz="0  0  0" />
      <inertia ixx="0.0067396699742153475" ixy="-0.00029664669108493805" ixz="0.012054305693079708" iyy="0.02834585273505329" iyz="0.00016547097350152774" izz="0.02162597425116785" />
    </inertial>
    <collision name="wrist_left_link1_collision">
      <origin rpy="0  0  0" xyz="0  0  0" />
      <geometry>
        <mesh filename="package://robots/exohaptic/meshes/collisions/wrist_left_link1.stl" scale="0.001 0.001 0.001" />
      </geometry>
    </collision>
    <visual name="wrist_left_link1_visual">
      <origin rpy="0  0  0" xyz="0  0  0" />
      <geometry>
        <mesh filename="package://robots/exohaptic/meshes/visuals/wrist_left_link1.stl" scale="0.001 0.001 0.001" />
      </geometry>
    </visual>
  </link>
  <link name="wrist_left_link2">
    <inertial>
      <mass value="0.04678258965791873" />
      <origin rpy="0  0  0" xyz="0  0  0" />
      <inertia ixx="0.004515253452686274" ixy="-0.00019885102310030766" ixz="0.00808035668594299" iyy="0.01899851527899539" iyz="0.00011092007059922487" izz="0.01449398256560806" />
    </inertial>
    <collision name="wrist_left_link2_collision">
      <origin rpy="0  0  0" xyz="0  0  0" />
      <geometry>
        <mesh filename="package://robots/exohaptic/meshes/collisions/wrist_left_link2.stl" scale="0.001 0.001 0.001" />
      </geometry>
    </collision>
    <visual name="wrist_left_link2_visual">
      <origin rpy="0  0  0" xyz="0  0  0" />
      <geometry>
        <mesh filename="package://robots/exohaptic/meshes/visuals/wrist_left_link2.stl" scale="0.001 0.001 0.001" />
      </geometry>
    </visual>
  </link>
  <link name="upper_arm_right">
    <inertial>
      <mass value="0.11563848144937117" />
      <origin rpy="0  0  0" xyz="-0.15643  0.0223  -0.16567" />
      <inertia ixx="0.0021107709126205873" ixy="0.002683716362356854" ixz="-0.004234132555808361" iyy="0.015166476936975306" iyz="0.0008141106363726831" izz="0.014142972810009594" />
    </inertial>
    <collision name="upper_arm_right_collision">
      <origin rpy="0  0  0" xyz="-0.15643  0.0223  -0.16567" />
      <geometry>
        <mesh filename="package://robots/exohaptic/meshes/collisions/upper_arm_right.stl" scale="0.001 0.001 0.001" />
      </geometry>
    </collision>
    <visual name="upper_arm_right_visual">
      <origin rpy="0  0  0" xyz="-0.15643  0.0223  -0.16567" />
      <geometry>
        <mesh filename="package://robots/exohaptic/meshes/visuals/upper_arm_right.stl" scale="0.001 0.001 0.001" />
      </geometry>
    </visual>
  </link>
  <link name="lower_arm_right">
    <inertial>
      <mass value="0.11563008205468756" />
      <origin rpy="0  0  0" xyz="-0.15929 -0.05422 -0.16155" />
      <inertia ixx="0.009922651692350456" ixy="0.0008338538527175686" ixz="-0.017679892970197418" iyy="0.041955431625722434" iyz="0.000386204386548335" izz="0.03223345398953438" />
    </inertial>
    <collision name="lower_arm_right_collision">
      <origin rpy="0  0  0" xyz="-0.15929 -0.05422 -0.16155" />
      <geometry>
        <mesh filename="package://robots/exohaptic/meshes/collisions/lower_arm_right.stl" scale="0.001 0.001 0.001" />
      </geometry>
    </collision>
    <visual name="lower_arm_right_visual">
      <origin rpy="0  0  0" xyz="-0.15929 -0.05422 -0.16155" />
      <geometry>
        <mesh filename="package://robots/exohaptic/meshes/visuals/lower_arm_right.stl" scale="0.001 0.001 0.001" />
      </geometry>
    </visual>
  </link>
  <link name="hand_right">
    <inertial>
      <mass value="0.016515273339096467" />
      <origin rpy="0  0  0" xyz="0.0084   0      -0.00588" />
      <inertia ixx="0.0016534238486402267" ixy="6.835939833730018e-05" ixz="-0.0028301211049870005" iyy="0.006501762546052183" iyz="3.9900968330131303e-05" izz="0.004850536513151817" />
    </inertial>
    <collision name="hand_right_collision">
      <origin rpy="0  0  0" xyz="0.0084   0      -0.00588" />
      <geometry>
        <mesh filename="package://robots/exohaptic/meshes/collisions/hand_right.stl" scale="0.001 0.001 0.001" />
      </geometry>
    </collision>
    <visual name="hand_right_visual">
      <origin rpy="0  0  0" xyz="0.0084   0      -0.00588" />
      <geometry>
        <mesh filename="package://robots/exohaptic/meshes/visuals/hand_right.stl" scale="0.001 0.001 0.001" />
      </geometry>
    </visual>
  </link>
  <link name="upper_arm_left">
    <inertial>
      <mass value="0.1156368930837189" />
      <origin rpy="0  0  0" xyz="0.15835  0.02226 -0.16432" />
      <inertia ixx="0.0021466919713594742" ixy="-0.0027387246858641486" ixz="0.004254852219478025" iyy="0.015751674188330404" iyz="0.0008075464044543287" izz="0.014690924713790623" />
    </inertial>
    <collision name="upper_arm_left_collision">
      <origin rpy="0  0  0" xyz="0.15835  0.02226 -0.16432" />
      <geometry>
        <mesh filename="package://robots/exohaptic/meshes/collisions/upper_arm_left.stl" scale="0.001 0.001 0.001" />
      </geometry>
    </collision>
    <visual name="upper_arm_left_visual">
      <origin rpy="0  0  0" xyz="0.15835  0.02226 -0.16432" />
      <geometry>
        <mesh filename="package://robots/exohaptic/meshes/visuals/upper_arm_left.stl" scale="0.001 0.001 0.001" />
      </geometry>
    </visual>
  </link>
  <link name="lower_arm_left">
    <inertial>
      <mass value="0.11563544441687167" />
      <origin rpy="0  0  0" xyz="0.16121 -0.05426 -0.1602" />
      <inertia ixx="0.009899017989415898" ixy="-0.0008624783278342999" ixz="0.017850777866129465" iyy="0.042830496731885374" iyz="0.00037126411939893014" izz="0.03313201411642468" />
    </inertial>
    <collision name="lower_arm_left_collision">
      <origin rpy="0  0  0" xyz="0.16121 -0.05426 -0.1602" />
      <geometry>
        <mesh filename="package://robots/exohaptic/meshes/collisions/lower_arm_left.stl" scale="0.001 0.001 0.001" />
      </geometry>
    </collision>
    <visual name="lower_arm_left_visual">
      <origin rpy="0  0  0" xyz="0.16121 -0.05426 -0.1602" />
      <geometry>
        <mesh filename="package://robots/exohaptic/meshes/visuals/lower_arm_left.stl" scale="0.001 0.001 0.001" />
      </geometry>
    </visual>
  </link>
  <link name="hand_left">
    <inertial>
      <mass value="0.01651527333909648" />
      <origin rpy="0  0  0" xyz="0.0084   0       0.00588" />
      <inertia ixx="0.0015327991331023471" ixy="-7.125639563819237e-05" ixz="0.0028405194049690727" iyy="0.006801583834447733" iyz="3.841394022298204e-05" izz="0.005270982237926619" />
    </inertial>
    <collision name="hand_left_collision">
      <origin rpy="0  0  0" xyz="0.0084   0       0.00588" />
      <geometry>
        <mesh filename="package://robots/exohaptic/meshes/collisions/hand_left.stl" scale="0.001 0.001 0.001" />
      </geometry>
    </collision>
    <visual name="hand_left_visual">
      <origin rpy="0  0  0" xyz="0.0084   0       0.00588" />
      <geometry>
        <mesh filename="package://robots/exohaptic/meshes/visuals/hand_left.stl" scale="0.001 0.001 0.001" />
      </geometry>
    </visual>
  </link>
  <link name="head">
    <inertial>
      <mass value="35.90636554635465" />
      <origin rpy="0  0  0" xyz="-0.00034 -0.01321  0.04421" />
      <inertia ixx="3.9669573405821867" ixy="-6.550264394606747e-05" ixz="0.0001133674418310343" iyy="3.913517829871493" iyz="0.010231568309373216" izz="0.15736346673179366" />
    </inertial>
    <collision name="head_collision">
      <origin rpy="0  0  0" xyz="-0.00034 -0.01321  0.04421" />
      <geometry>
        <mesh filename="package://robots/exohaptic/meshes/collisions/head.stl" scale="0.001 0.001 0.001" />
      </geometry>
    </collision>
    <visual name="head_visual">
      <origin rpy="0  0  0" xyz="-0.00034 -0.01321  0.04421" />
      <geometry>
        <mesh filename="package://robots/exohaptic/meshes/visuals/head.stl" scale="0.001 0.001 0.001" />
      </geometry>
    </visual>
  </link>
</robot>
